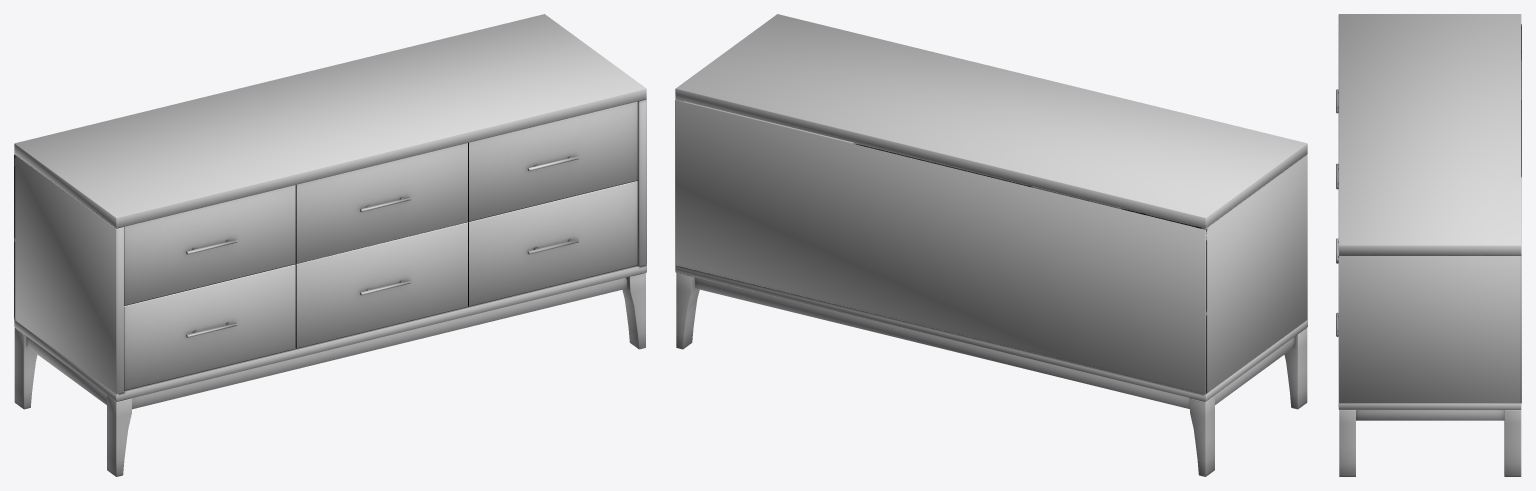
File: dresser_white.glb
3 renders of one model, left to right at view 1: azimuth 30°, elevation 25°; view 2: azimuth 150°, elevation 25°; view 3: azimuth 270°, elevation 25°, orthographic. The views are drawn at different scales.
Parts seen in each view (by area): view 1: mesh_0; view 2: mesh_0; view 3: mesh_0.
Boxes of the visible parts, x1=… form: mesh_0: x1=14, y1=14, x2=646, y2=476; mesh_0: x1=675, y1=14, x2=1307, y2=476; mesh_0: x1=1336, y1=14, x2=1521, y2=476.
Size of the model in its own units: 1.52 by 0.7122 by 0.5168.
1 material, 1 textured.
